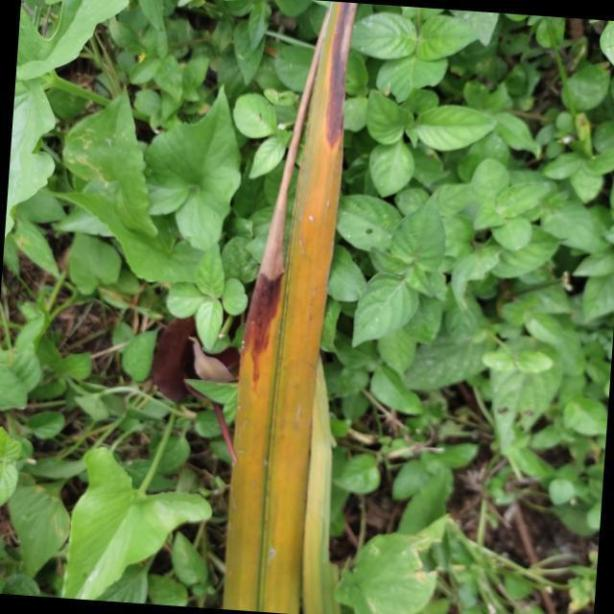Megnesium: (227, 0, 355, 614)
